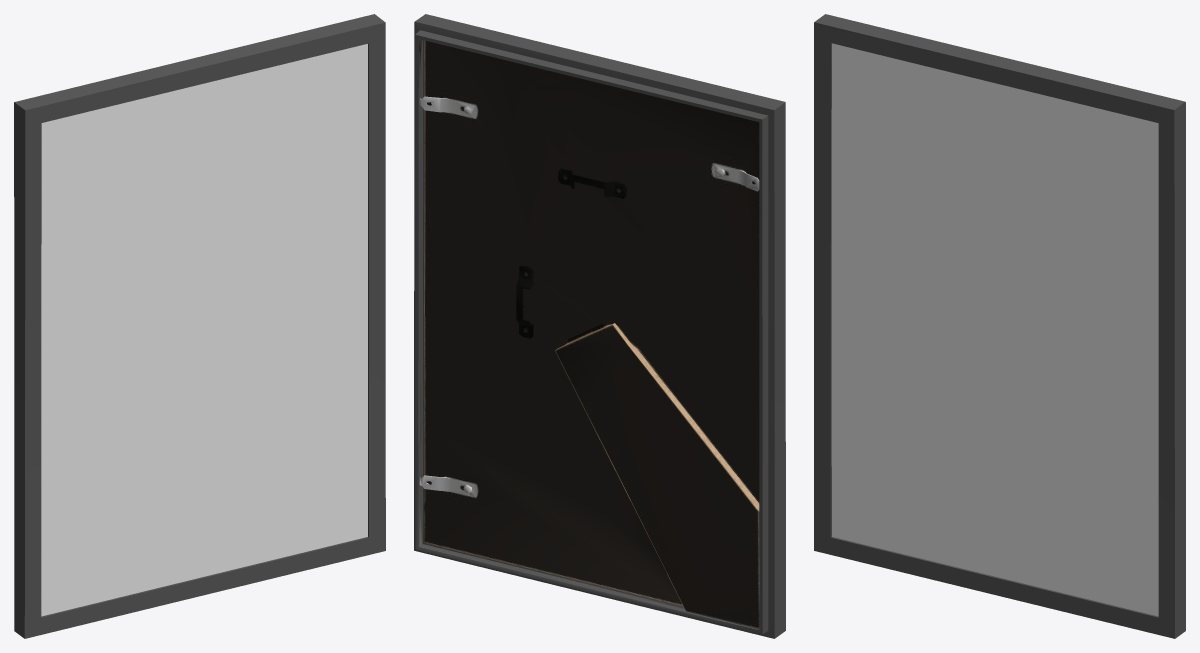
File: lomviken_ramka_90314303.glb
3 renders of one model, left to right at view 1: azimuth 30°, elevation 25°; view 2: azimuth 150°, elevation 25°; view 3: azimuth 330°, elevation 25°, orthographic.
Visible parts, largest first — view 1: lomviken_ramka_90314303; view 2: lomviken_ramka_90314303; view 3: lomviken_ramka_90314303.
Boxes of the visible parts, bbox=[...] form: lomviken_ramka_90314303: bbox=[14, 14, 385, 638]; lomviken_ramka_90314303: bbox=[414, 14, 785, 638]; lomviken_ramka_90314303: bbox=[814, 14, 1185, 638].
Bounding box in the file's own units: 0.2242 × 0.3143 × 0.0182.
2 materials, 2 textured.
